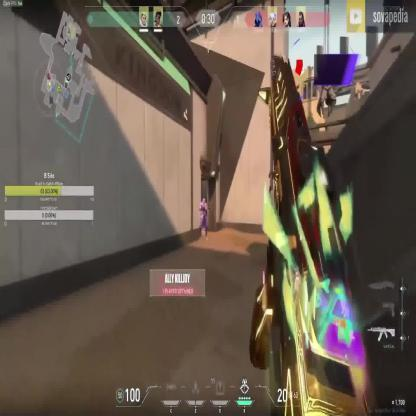enemy: (198, 196, 209, 240)
enemy_head: (202, 198, 206, 204)
